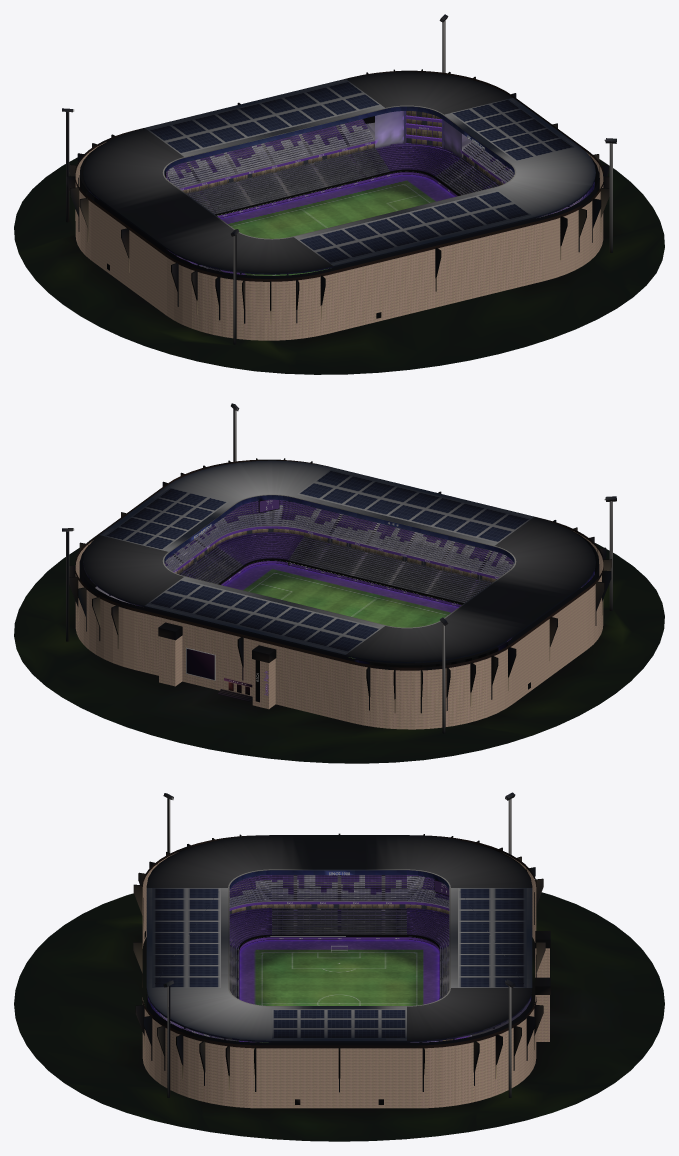
Rendered from lotto_park.glb.
3 renders of one model, top to bottom at view 1: azimuth 30°, elevation 25°; view 2: azimuth 150°, elevation 25°; view 3: azimuth 270°, elevation 25°, orthographic.
Parts seen in each view (by area): view 1: LottoPark; view 2: LottoPark; view 3: LottoPark.
Boxes of the visible parts, x1,y1,x2,y2 form: LottoPark: (14, 14, 664, 374); LottoPark: (14, 403, 664, 763); LottoPark: (14, 792, 664, 1141).
Bounding box in the file's own units: 237 × 46.51 × 237.
43 materials, 8 textured.
